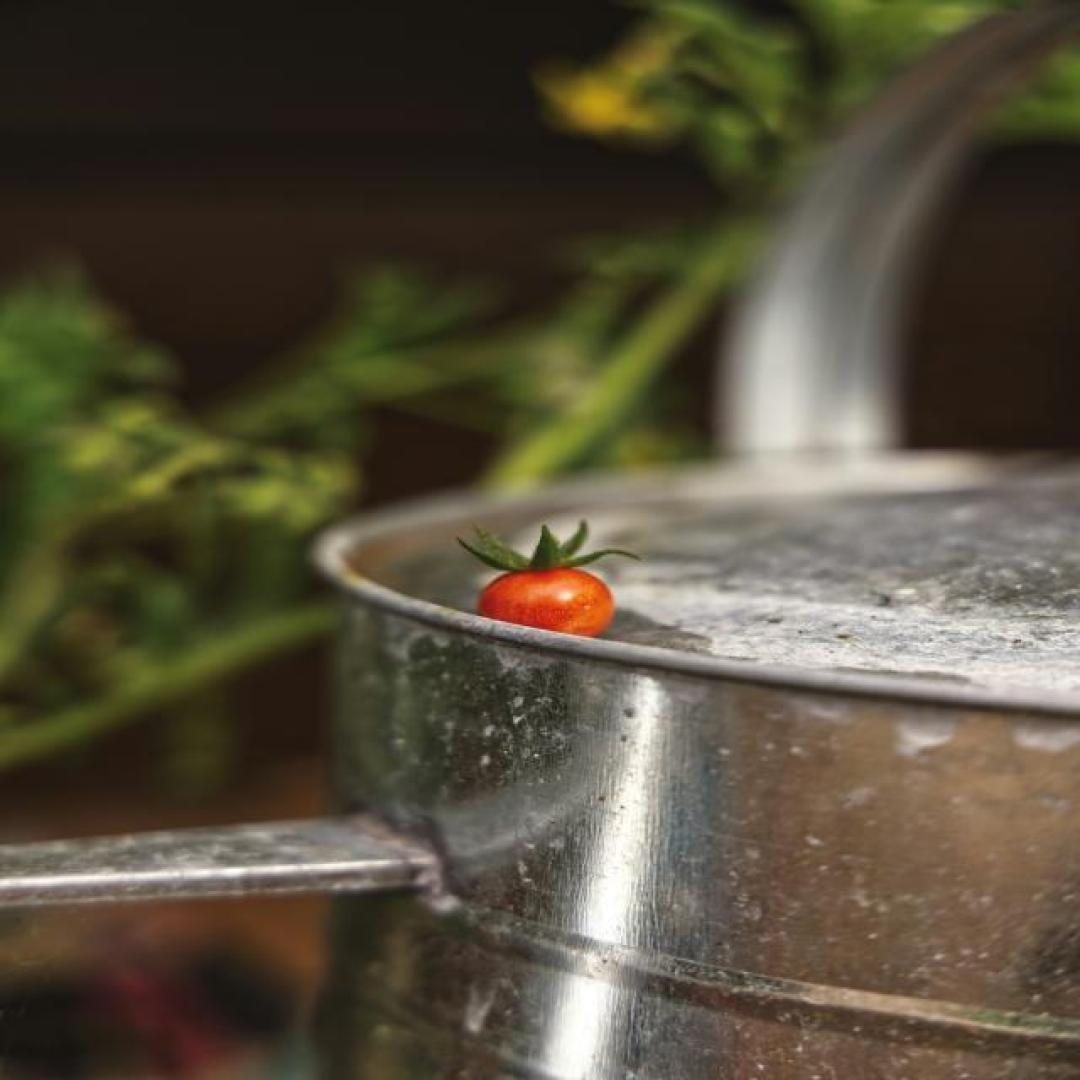matang: (455, 523, 639, 641)
